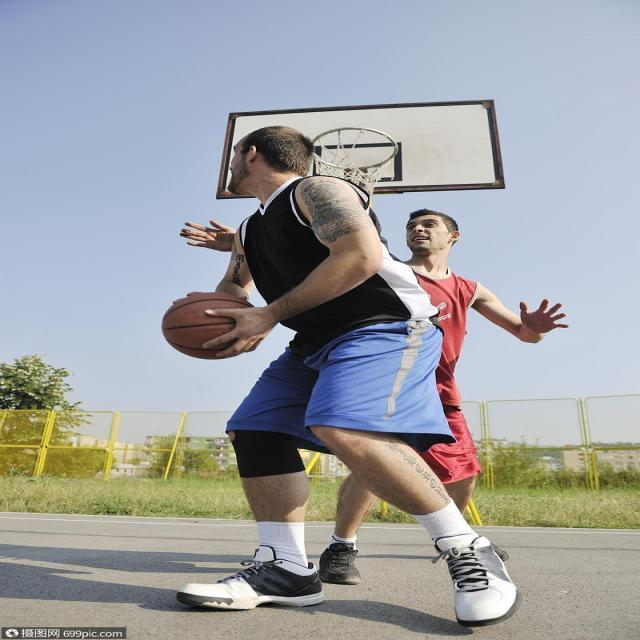rim: (165, 290, 252, 359)
